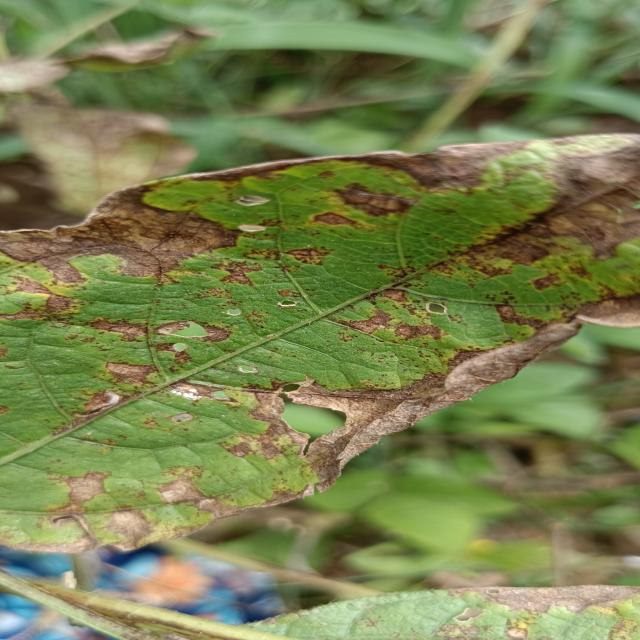Black gram_leaf spot: (0, 123, 640, 561)
